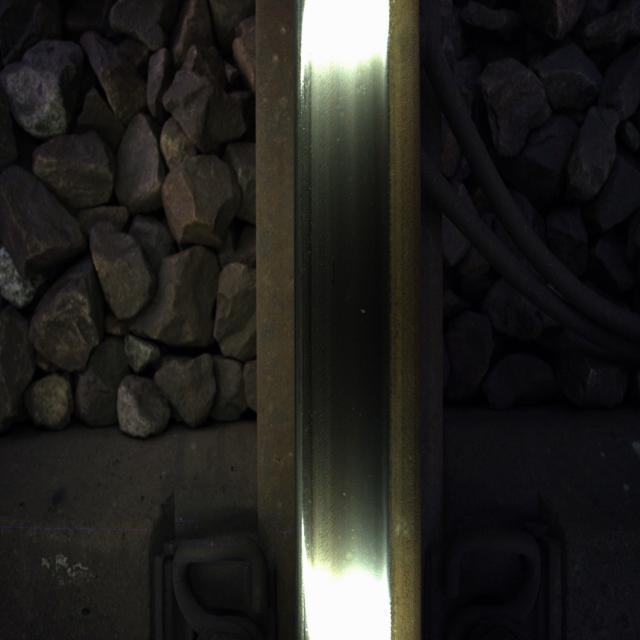break: (305, 42, 383, 568)
